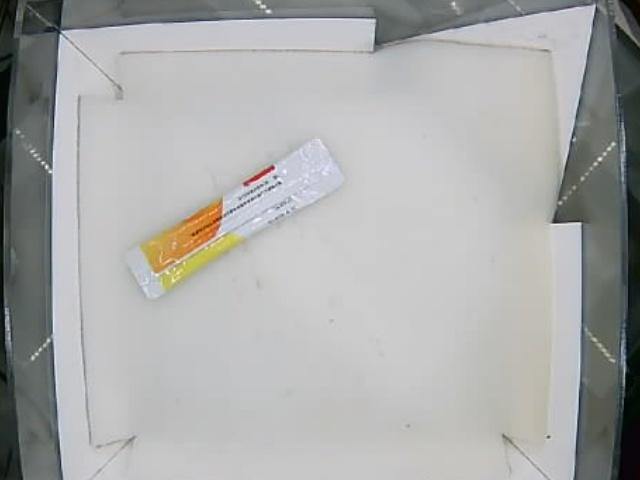Medicine: (123, 134, 344, 298)
